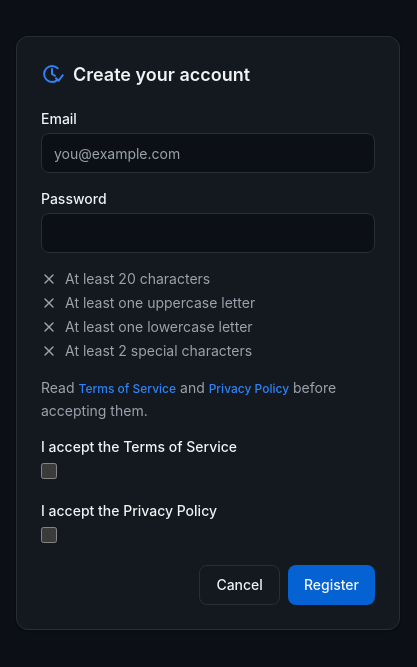
Test: UserCreationPage › requires both legal texts before registration
In the field named "email": (208, 153) [41,133,375,173], type "newuser@example.com"
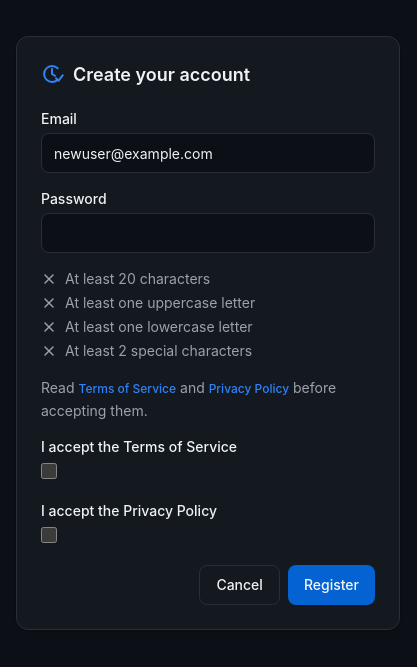
In the password field named "password": (208, 233) [41,213,375,253], type "Str0ng-Passphrase!!x"
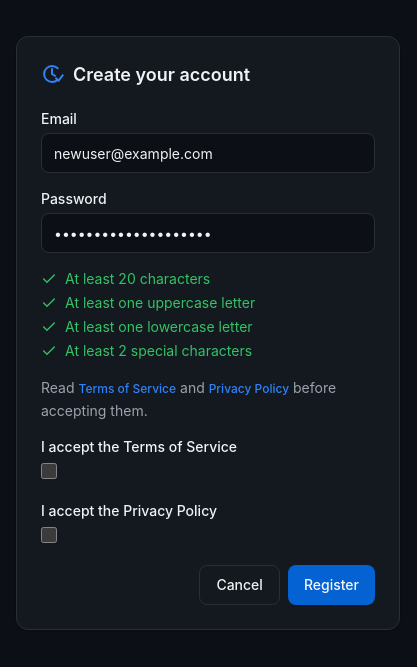
Click the button "Register": click(331, 585) [288,565,375,605]
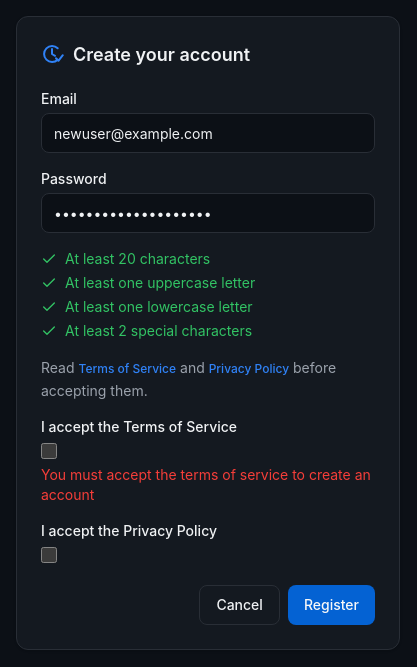
expect the message shows "You must accept the terms of service": met, box [41,466,371,503]
Click the checkbox labelled "I accept the Terms of Service": click(49, 451) [41,443,57,459]
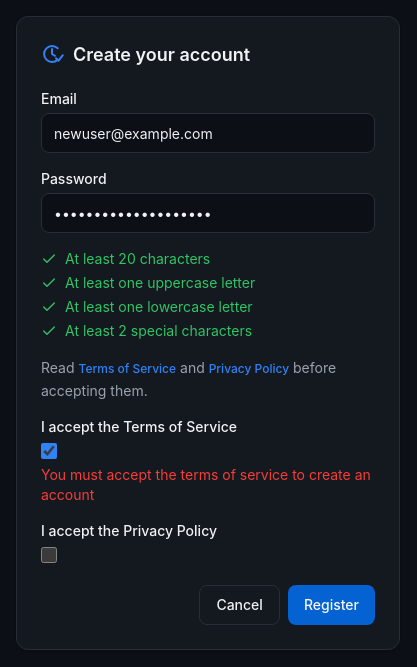
Click the button "Register": click(331, 605) [288,585,375,625]
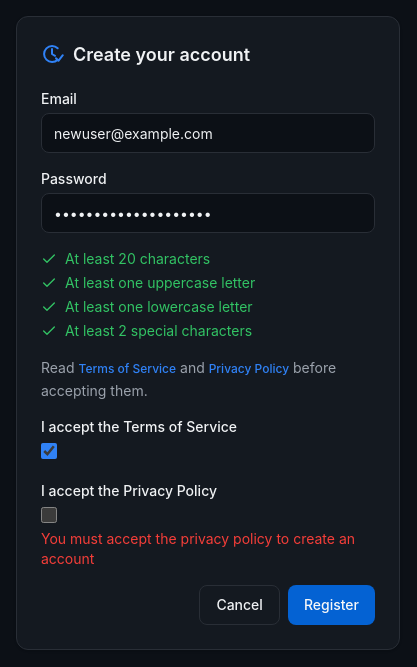
expect the message shows "You must accept the privacy policy": met, box [41,530,355,567]
